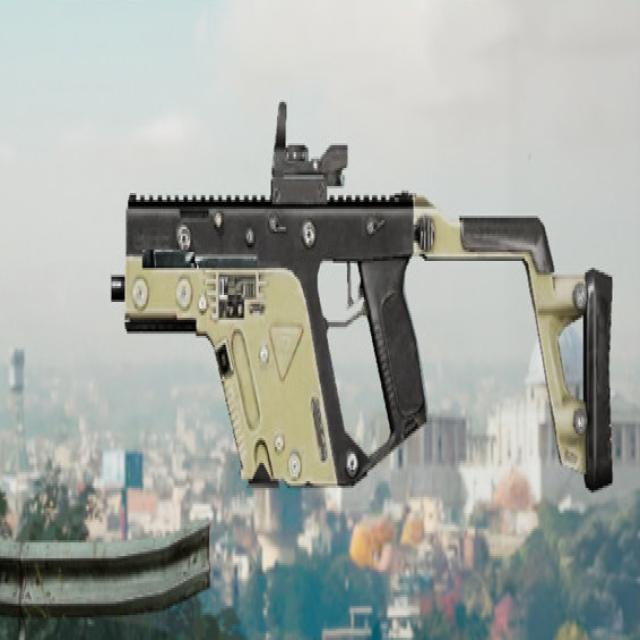Weapon: (111, 102, 611, 488)
